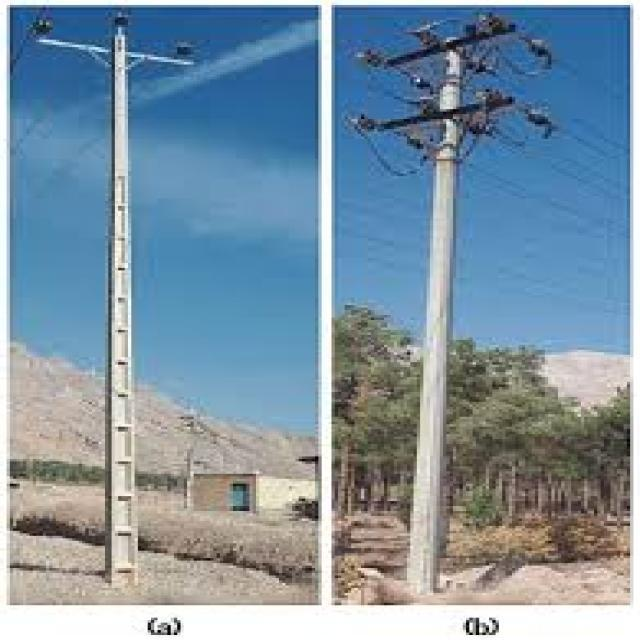light_pole: (42, 29, 229, 580), (376, 36, 526, 597)
